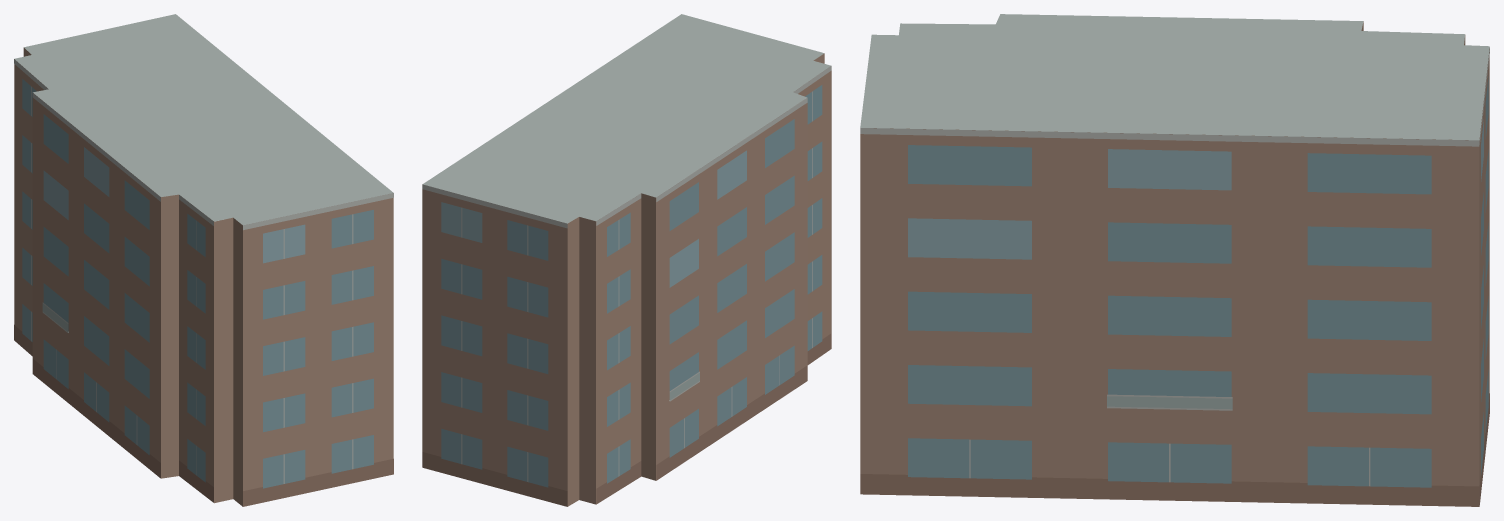
File: survey-upis-32776791.glb
3 renders of one model, left to right at view 1: azimuth 30°, elevation 25°; view 2: azimuth 150°, elevation 25°; view 3: azimuth 270°, elevation 25°, orthographic. The views are drawn at different scales.
Parts seen in each view (by area): view 1: survey-upis-32776791.tmp; view 2: survey-upis-32776791.tmp; view 3: survey-upis-32776791.tmp.
Part boxes in pixels (left/top/right/bottom): survey-upis-32776791.tmp: left=14, top=14, right=393, bottom=506; survey-upis-32776791.tmp: left=422, top=14, right=831, bottom=506; survey-upis-32776791.tmp: left=860, top=14, right=1489, bottom=506.
Size of the model in its own units: 10.51 by 14.2 by 22.12.
